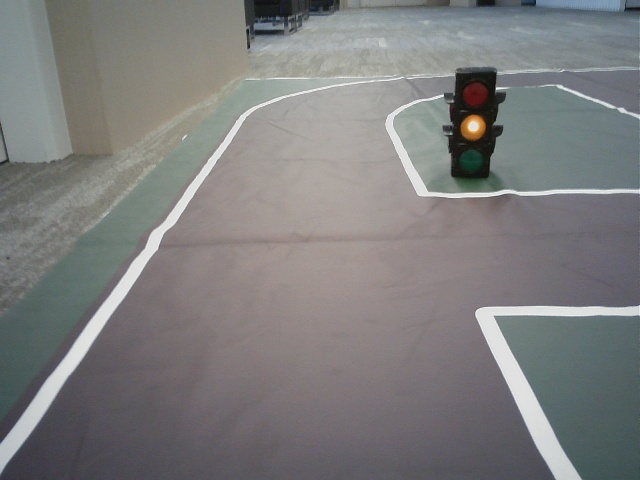yellow: (457, 70, 489, 175)
